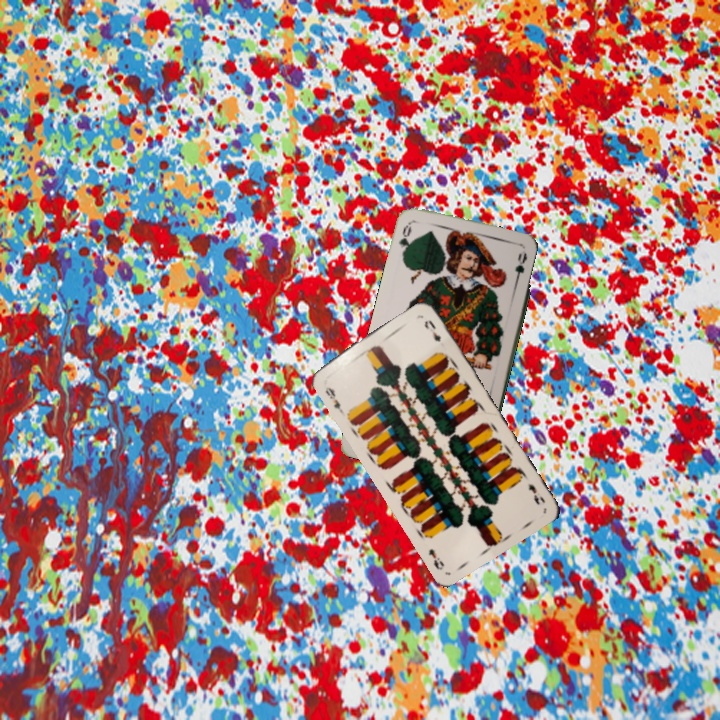E9: (321, 383, 345, 415), (524, 479, 548, 508)
GO: (395, 219, 415, 259)
